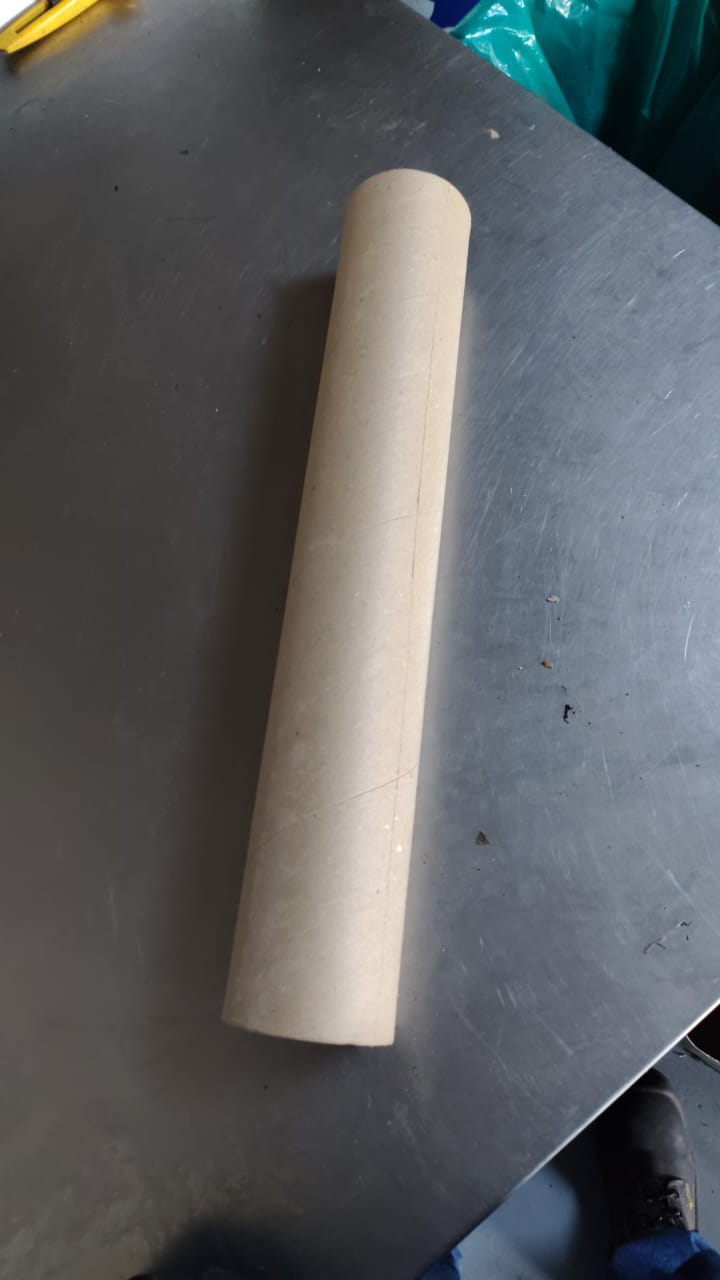Carton: (223, 168, 478, 1048)
